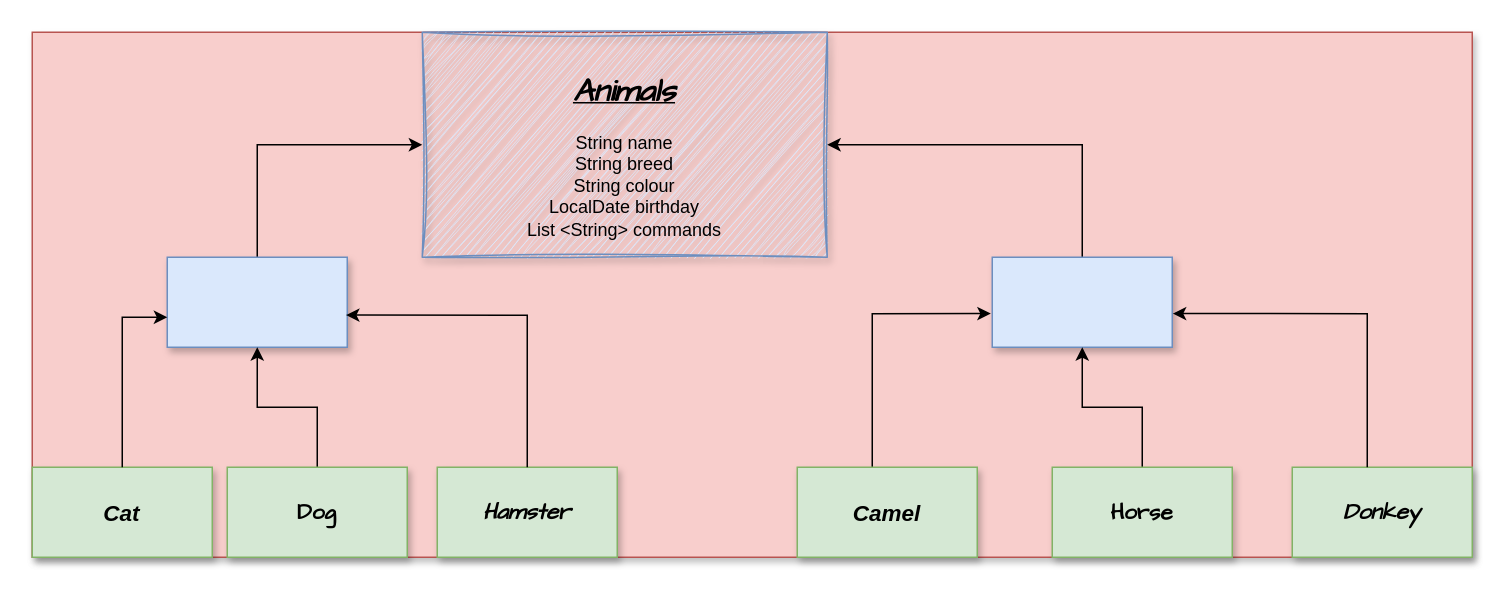
The diagram is 1508 pixels wide and 594 high, and some of its shapes have lost their labels. Here are the shapes that lost their labels. From the top down, the centre of each, then its label:
At point (258, 304): "Pets".
At point (1083, 304): "PackAnimals".
